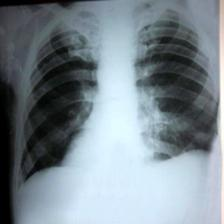tuberculosis: (14, 0, 224, 202)
